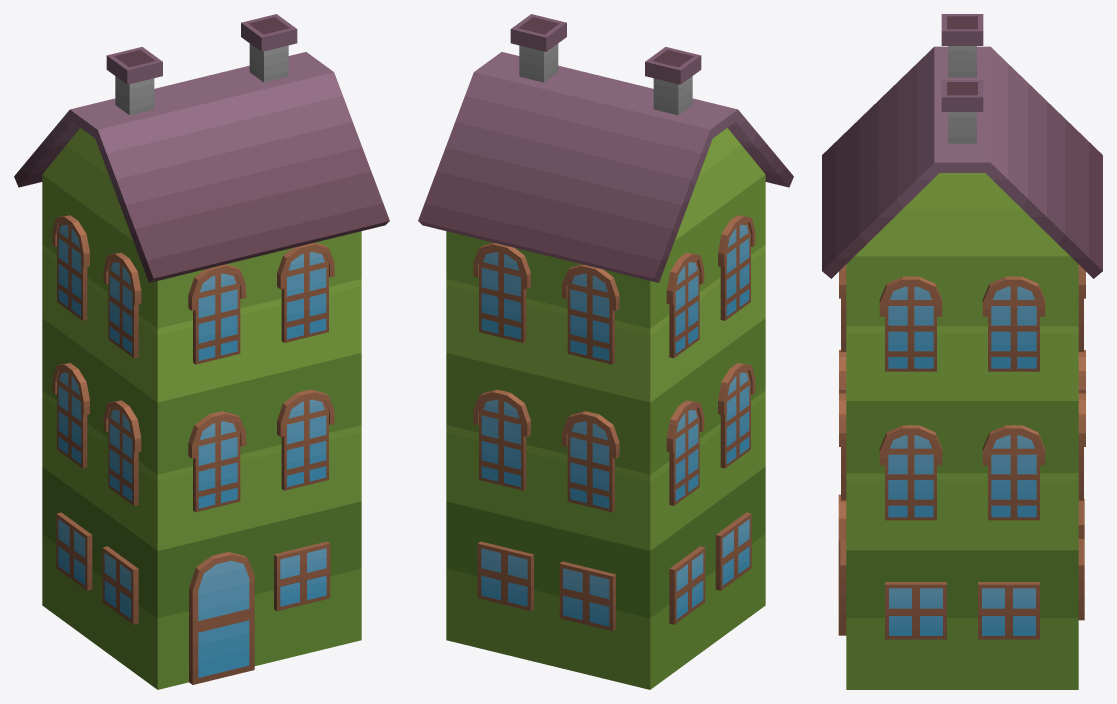
Rendered from village_house_3.glb.
The picture shows the model from 3 angles, left to right: view 1: azimuth 30°, elevation 25°; view 2: azimuth 150°, elevation 25°; view 3: azimuth 270°, elevation 25°; orthographic projection.
Visible parts, largest first — view 1: village_house_3; view 2: village_house_3; view 3: village_house_3.
Part boxes in pixels (bbox=[...]): village_house_3: bbox=[14, 14, 389, 689]; village_house_3: bbox=[418, 14, 793, 689]; village_house_3: bbox=[822, 14, 1102, 689].
Bounding box in the file's own units: 2.13 × 5 × 2.18.
Materials: 1 (1 with a texture image).
